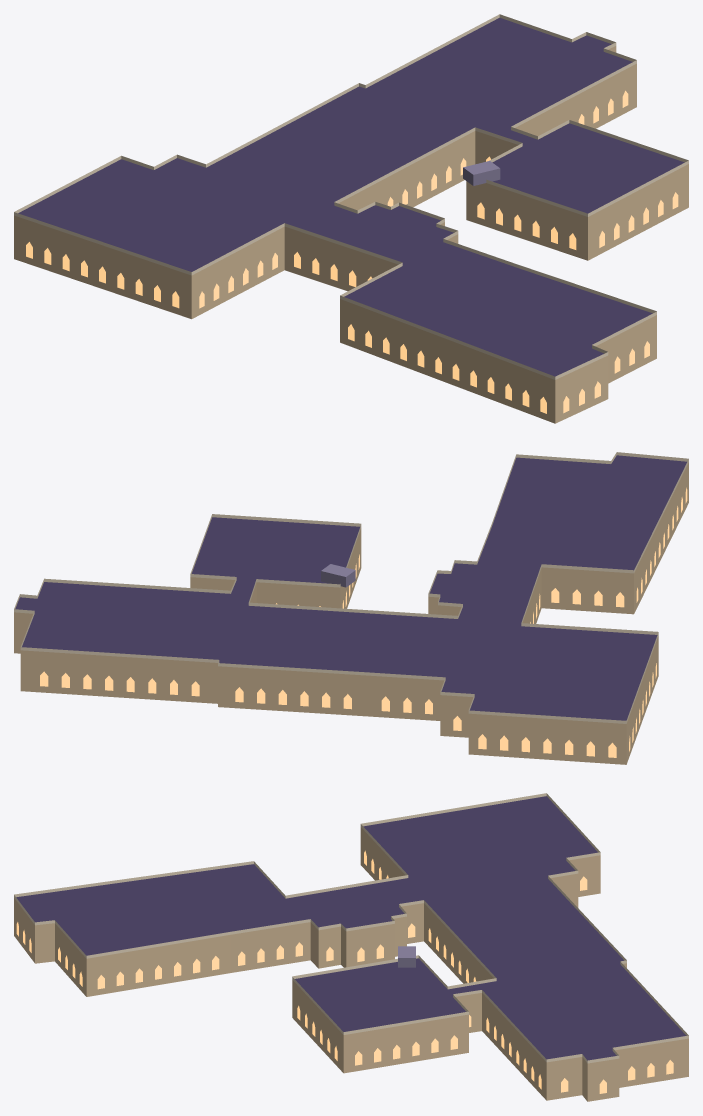
The picture shows the model from 3 angles, top to bottom: view 1: azimuth 30°, elevation 25°; view 2: azimuth 150°, elevation 25°; view 3: azimuth 270°, elevation 25°; orthographic projection. The views are drawn at different scales.
Visible parts, largest first — view 1: campus/b-049-0; view 2: campus/b-049-0; view 3: campus/b-049-0.
Part boxes in pixels (x1,y1,x2,y2): campus/b-049-0: (14, 14, 688, 423); campus/b-049-0: (14, 452, 688, 764); campus/b-049-0: (14, 793, 688, 1101).
Bounding box in the file's own units: 105 × 8.8 × 112.
